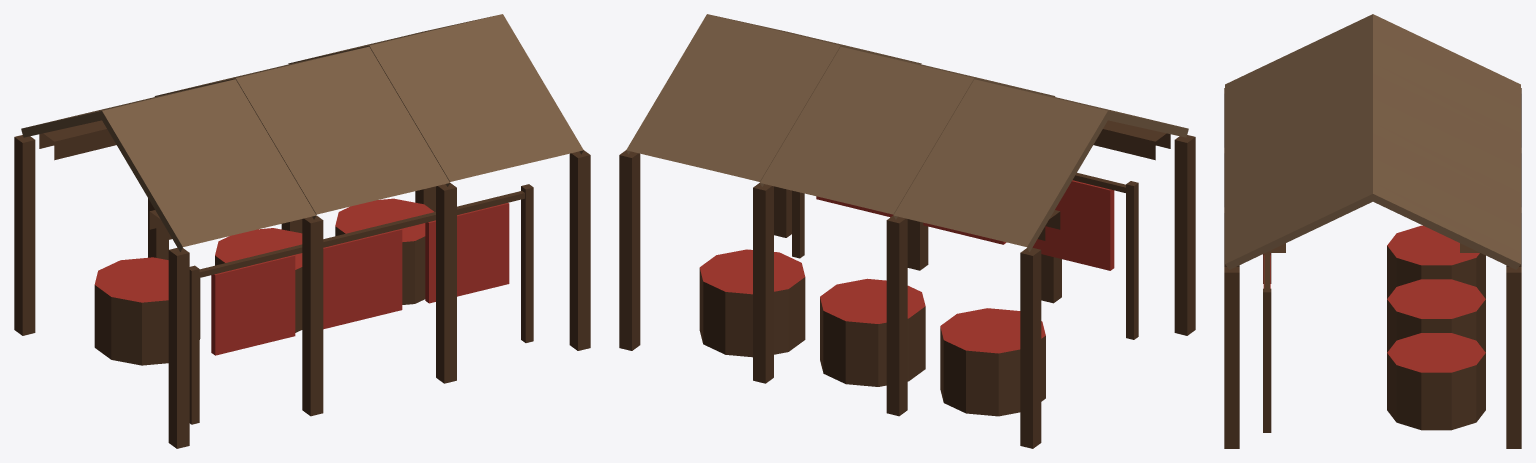
File: dyeworks.obj
The picture shows the model from 3 angles, left to right: view 1: azimuth 30°, elevation 25°; view 2: azimuth 150°, elevation 25°; view 3: azimuth 270°, elevation 25°; orthographic projection. The views are drawn at different scales.
Bounding box in the file's own units: 6.19 × 3.96 × 4.22.
